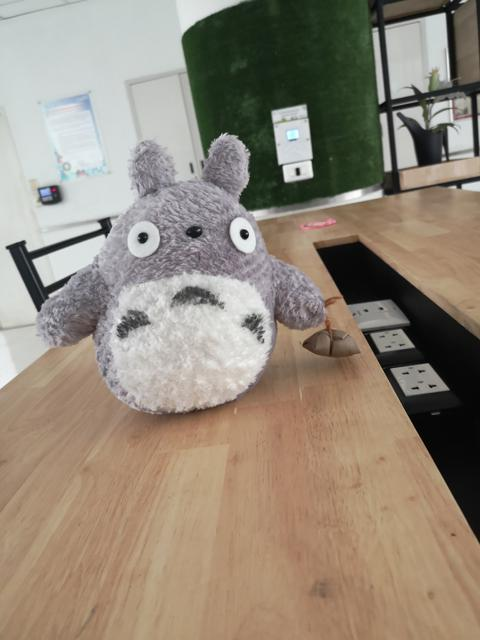totoro: (32, 123, 360, 424)
